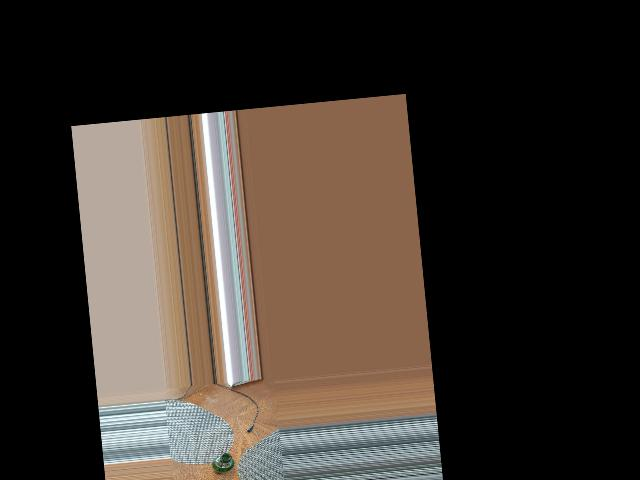beer: (210, 452, 235, 475)
